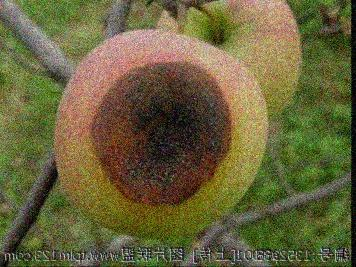rotten apple: (55, 28, 267, 242)
